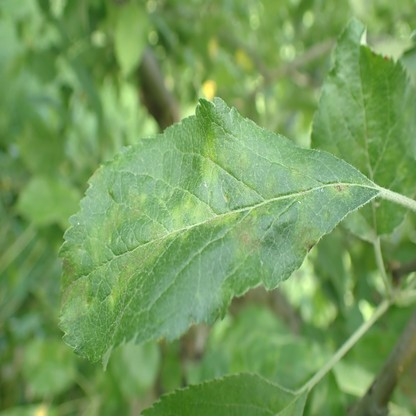scab: (108, 242, 161, 310), (90, 202, 121, 263), (171, 194, 205, 238), (198, 132, 223, 182), (233, 211, 259, 259), (294, 202, 317, 254), (61, 282, 90, 319), (290, 158, 320, 187), (61, 247, 82, 277), (127, 186, 146, 215), (263, 175, 277, 214), (207, 204, 228, 227), (144, 221, 166, 241), (235, 147, 250, 173), (330, 181, 350, 198), (235, 176, 253, 194), (157, 189, 168, 203)
